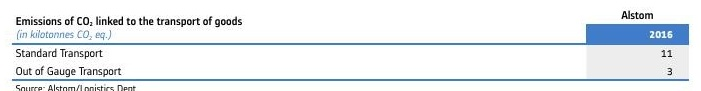table: (0, 0, 701, 91)
